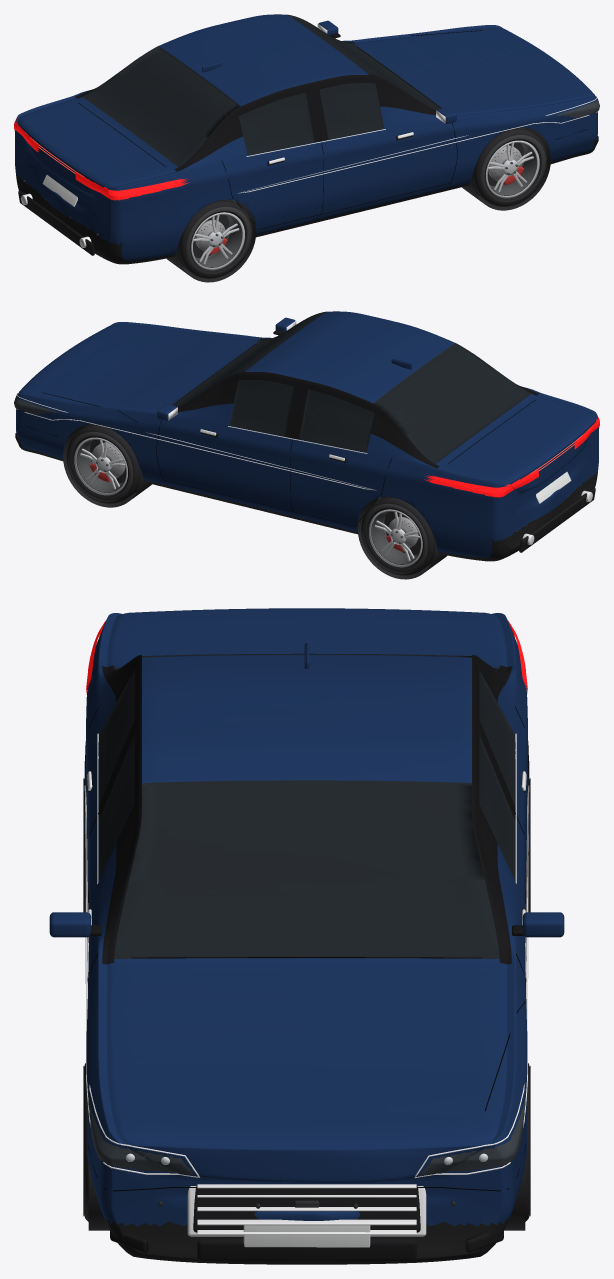
The model's file is limousine.glb.
3 views of the same model, one above another, from view 1: azimuth 30°, elevation 25°; view 2: azimuth 150°, elevation 25°; view 3: azimuth 270°, elevation 25° (orthographic). The views are drawn at different scales.
Visible parts, largest first — view 1: karosserie, bt:rad_hr, bt:rad_vr, rueckleuchte_-1, diffusor, scheinwerfer_rand_-1, radhausschale.001, radhausschale.003, bt:bremse_vr, bt:bremse_hr, kennzeichen_hinten, scheinwerfer_-1; view 2: karosserie, bt:rad_hl, bt:rad_vl, rueckleuchte_1, diffusor, scheinwerfer_rand_1, radhausschale.002, radhausschale, bt:bremse_vl, bt:bremse_hl, kennzeichen_hinten, scheinwerfer_1; view 3: karosserie, grill, lufteinlass, kennzeichen_vorn, scheinwerfer_-1, scheinwerfer_1, grill_lamelle_1, scheinwerfer_rand_-1, scheinwerfer_rand_1, grill_lamelle_4, grill_lamelle_2, spiegel_1 (+3 smaller).
Part boxes in pixels (x1,y1,x2,y2): karosserie: (14, 14, 597, 264); bt:rad_hr: (178, 199, 252, 278); bt:rad_vr: (473, 127, 547, 206); rueckleuchte_-1: (75, 172, 189, 200); diffusor: (18, 190, 94, 255); scheinwerfer_rand_-1: (237, 95, 597, 193); radhausschale.001: (462, 128, 550, 210); radhausschale.003: (166, 201, 256, 282); bt:bremse_vr: (488, 145, 524, 184); bt:bremse_hr: (195, 219, 227, 254); kennzeichen_hinten: (42, 175, 77, 206); scheinwerfer_-1: (556, 98, 599, 118); karosserie: (16, 311, 599, 561); bt:rad_hl: (361, 496, 435, 575); bt:rad_vl: (66, 424, 140, 503); rueckleuchte_1: (424, 469, 538, 497); diffusor: (519, 487, 595, 552); scheinwerfer_rand_1: (16, 392, 376, 490); radhausschale.002: (357, 498, 447, 579); radhausschale: (63, 426, 151, 507); bt:bremse_vl: (89, 442, 125, 481); bt:bremse_hl: (386, 516, 418, 551); kennzeichen_hinten: (536, 472, 571, 503); scheinwerfer_1: (14, 395, 57, 415); karosserie: (84, 608, 529, 1264); grill: (193, 1186, 420, 1232); lufteinlass: (197, 1238, 416, 1260); kennzeichen_vorn: (243, 1225, 370, 1247); scheinwerfer_-1: (88, 1097, 194, 1175); scheinwerfer_1: (419, 1097, 525, 1175); grill_lamelle_1: (197, 1219, 416, 1225); scheinwerfer_rand_-1: (84, 785, 199, 1177); scheinwerfer_rand_1: (414, 785, 529, 1178); grill_lamelle_4: (197, 1184, 416, 1188); grill_lamelle_2: (197, 1207, 416, 1211); spiegel_1: (522, 912, 564, 937).
Bounding box in the file's own units: 4.81 × 1.5 × 2.11.
